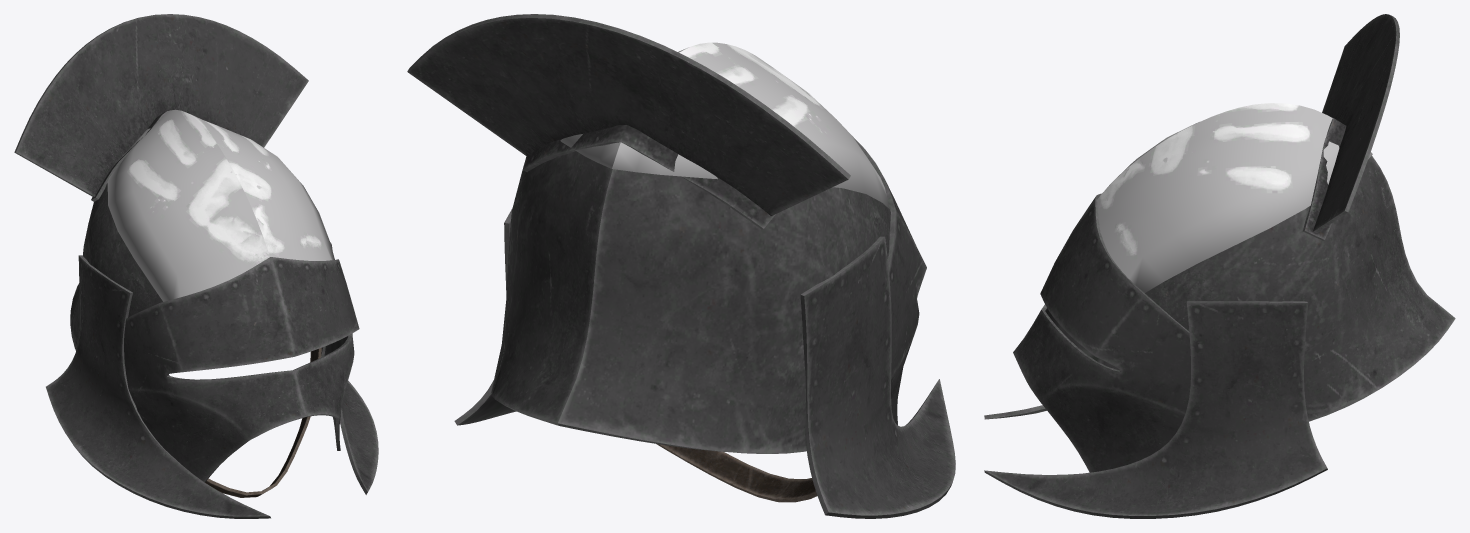
Rendered from sk_uruk_hai_helmet_sword_heavy_a1.fbx.
3 views of the same model, side by side, from view 1: azimuth 30°, elevation 25°; view 2: azimuth 150°, elevation 25°; view 3: azimuth 270°, elevation 25° (orthographic). The views are drawn at different scales.
Parts seen in each view (by area): view 1: sk_uruk_hai_helmet_sword_heavy_a1.2, sk_uruk_hai_helmet_sword_heavy_a1.0, sk_uruk_hai_helmet_sword_heavy_a1.1; view 2: sk_uruk_hai_helmet_sword_heavy_a1.2, sk_uruk_hai_helmet_sword_heavy_a1.0, sk_uruk_hai_helmet_sword_heavy_a1.1; view 3: sk_uruk_hai_helmet_sword_heavy_a1.2, sk_uruk_hai_helmet_sword_heavy_a1.0.
Boxes of the visible parts, x1=… form: sk_uruk_hai_helmet_sword_heavy_a1.2: x1=14, y1=14, x2=378, y2=518; sk_uruk_hai_helmet_sword_heavy_a1.0: x1=107, y1=109, x2=334, y2=301; sk_uruk_hai_helmet_sword_heavy_a1.1: x1=205, y1=348, x2=321, y2=497; sk_uruk_hai_helmet_sword_heavy_a1.2: x1=407, y1=14, x2=955, y2=518; sk_uruk_hai_helmet_sword_heavy_a1.0: x1=560, y1=42, x2=890, y2=209; sk_uruk_hai_helmet_sword_heavy_a1.1: x1=656, y1=444, x2=817, y2=502; sk_uruk_hai_helmet_sword_heavy_a1.2: x1=984, y1=14, x2=1455, y2=518; sk_uruk_hai_helmet_sword_heavy_a1.0: x1=1097, y1=103, x2=1372, y2=292.
Size of the model in its own units: 0.2846 by 0.3443 by 0.3699.
Materials: 3 (3 with a texture image).
